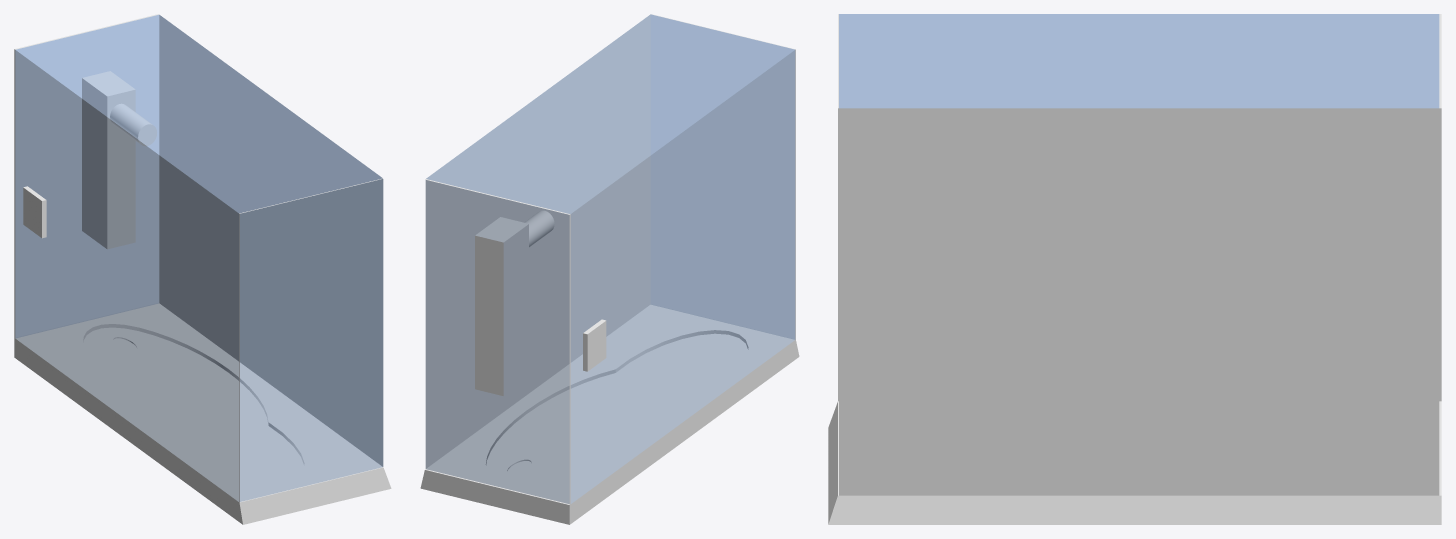
The picture shows the model from 3 angles, left to right: view 1: azimuth 30°, elevation 25°; view 2: azimuth 150°, elevation 25°; view 3: azimuth 270°, elevation 25°; orthographic projection. The views are drawn at different scales.
Visible parts, largest first — view 1: Mesh1_Component_8_1_Model; view 2: Mesh1_Component_8_1_Model; view 3: Mesh1_Component_8_1_Model.
Part boxes in pixels (x1,y1,x2,y2): Mesh1_Component_8_1_Model: [14, 14, 391, 524]; Mesh1_Component_8_1_Model: [420, 14, 799, 524]; Mesh1_Component_8_1_Model: [828, 14, 1441, 524].
Bounding box in the file's own units: 1.09 × 2.82 × 2.1.
